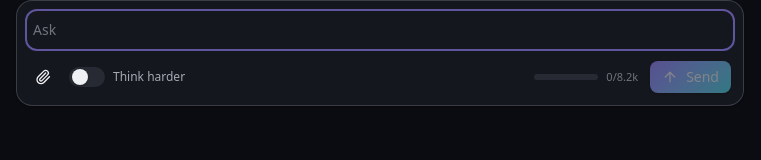
Test: picked files appear as chips with a token estimate and are sent with the message
Click the button named "Attach files": (43, 77) [29,63,57,91]
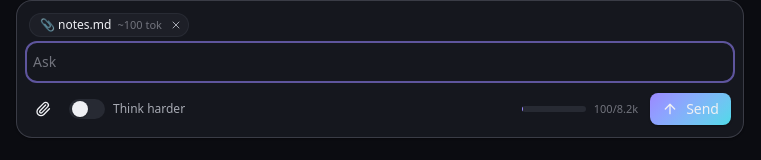
Check: the text "📎 notes.md" is shown, box [40,16,111,34]
Check: the text "~100 tok" is shown, box [117,17,162,33]
In the text box named "Message": (380, 62) [29,45,731,79], type "summarize"
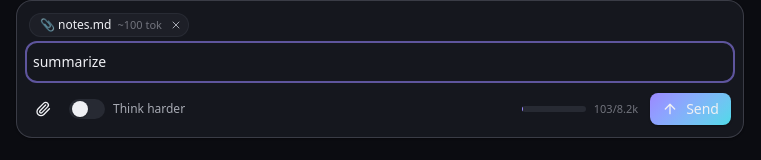
Click the button with aria-label "Send message": (691, 109) [650,93,731,125]
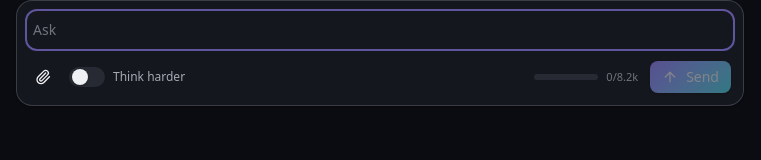
Check: the text "notes.md" is gone
